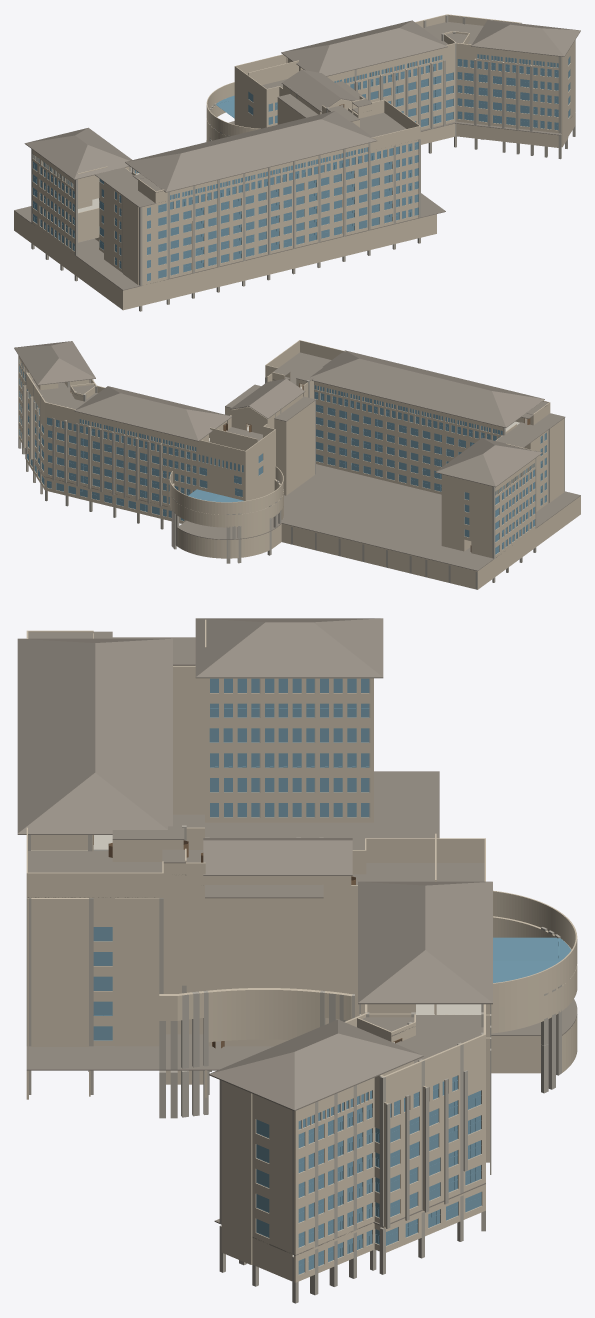
The model's file is lizhi.glb.
3 renders of one model, top to bottom at view 1: azimuth 30°, elevation 25°; view 2: azimuth 150°, elevation 25°; view 3: azimuth 270°, elevation 25°, orthographic. The views are drawn at different scales.
Visible parts, largest first — view 1: OBJ_Walls (×8), OBJ_Roofs (×5), OBJ_Windows (×7), OBJ_Columns (×7); view 2: OBJ_Walls (×8), OBJ_Roofs (×5), OBJ_Windows (×8), OBJ_Columns (×8), OBJ_Curtain_Panels; view 3: OBJ_Walls (×6), OBJ_Roofs (×7), OBJ_Windows (×7), OBJ_Columns (×9), OBJ_Curtain_Panels.
Part boxes in pixels (bbox=[...]): OBJ_Walls (×8): bbox=[14, 14, 575, 310]; OBJ_Roofs (×5): bbox=[14, 20, 580, 290]; OBJ_Windows (×7): bbox=[33, 54, 570, 281]; OBJ_Columns (×7): bbox=[31, 15, 575, 311]; OBJ_Walls (×8): bbox=[18, 340, 580, 589]; OBJ_Roofs (×5): bbox=[14, 341, 580, 571]; OBJ_Windows (×8): bbox=[19, 359, 546, 554]; OBJ_Columns (×8): bbox=[18, 368, 564, 589]; OBJ_Curtain_Panels: bbox=[188, 489, 243, 502]; OBJ_Walls (×6): bbox=[26, 630, 577, 1282]; OBJ_Roofs (×7): bbox=[17, 618, 577, 1255]; OBJ_Windows (×7): bbox=[93, 678, 481, 1274]; OBJ_Columns (×9): bbox=[26, 678, 561, 1303]; OBJ_Curtain_Panels: bbox=[493, 937, 571, 982].
Bounding box in the file's own units: 100 × 23.44 × 48.11.
